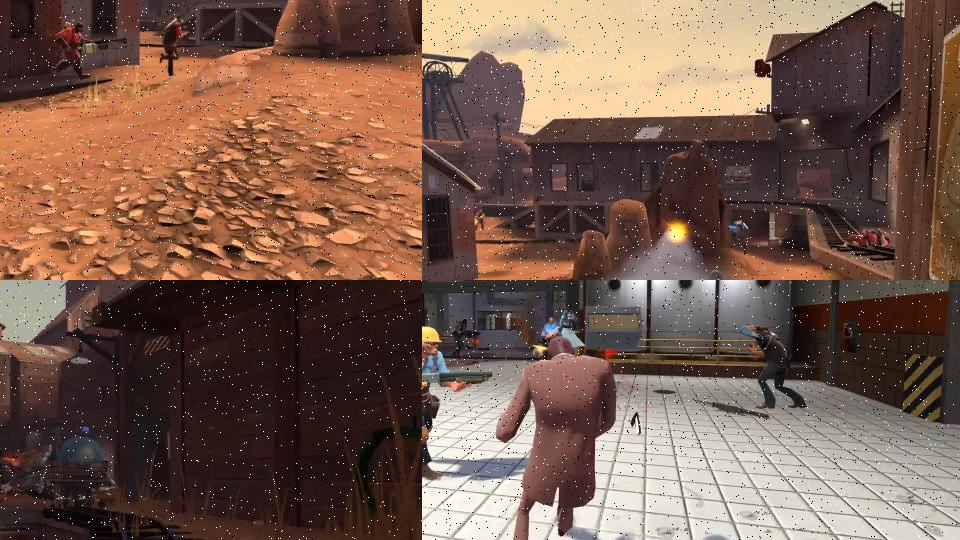Enemy: (497, 336, 615, 540), (422, 323, 483, 480), (740, 322, 809, 410), (49, 20, 129, 81), (159, 14, 189, 77), (448, 316, 480, 358), (0, 444, 23, 492), (532, 317, 560, 355), (561, 307, 585, 348), (731, 217, 752, 259), (470, 206, 489, 233)
